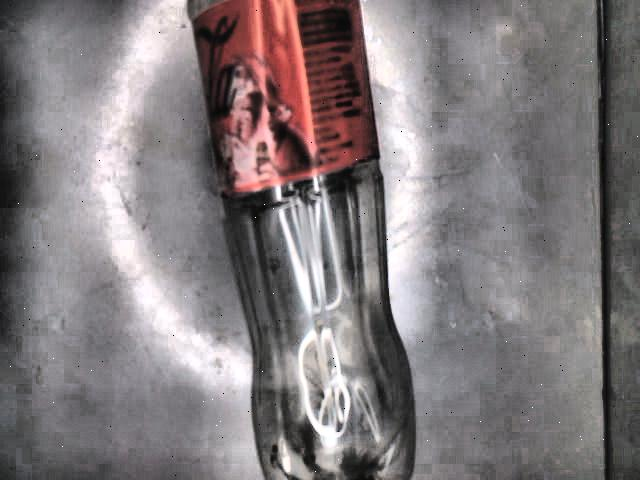Bottles: (186, 0, 415, 480)
